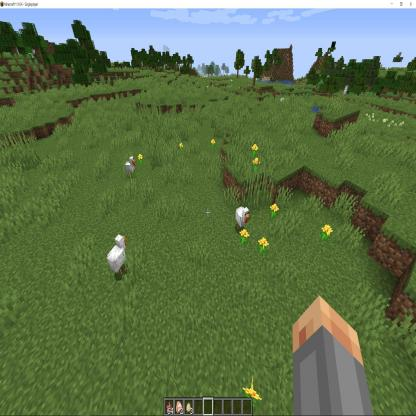minecraft-pigs: (106, 231, 129, 280), (234, 204, 250, 234), (124, 156, 137, 182)
